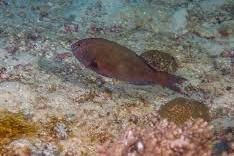Scaridae -Parrotfishes-: (68, 33, 186, 94)
